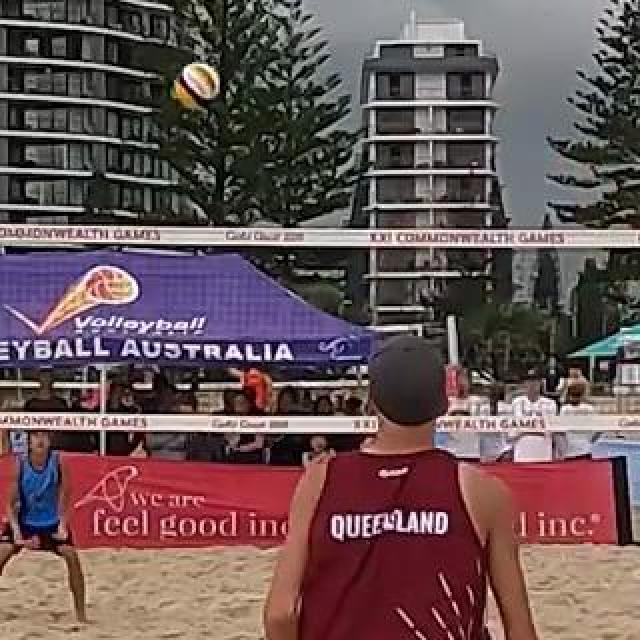volleyball: (174, 64, 220, 106)
